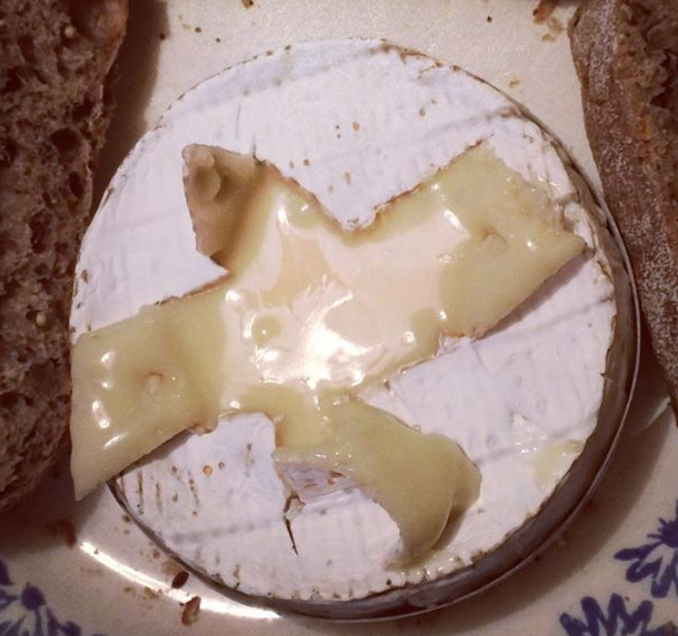camembert: (70, 36, 636, 622)
